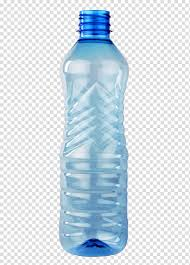available: (56, 6, 137, 259)
